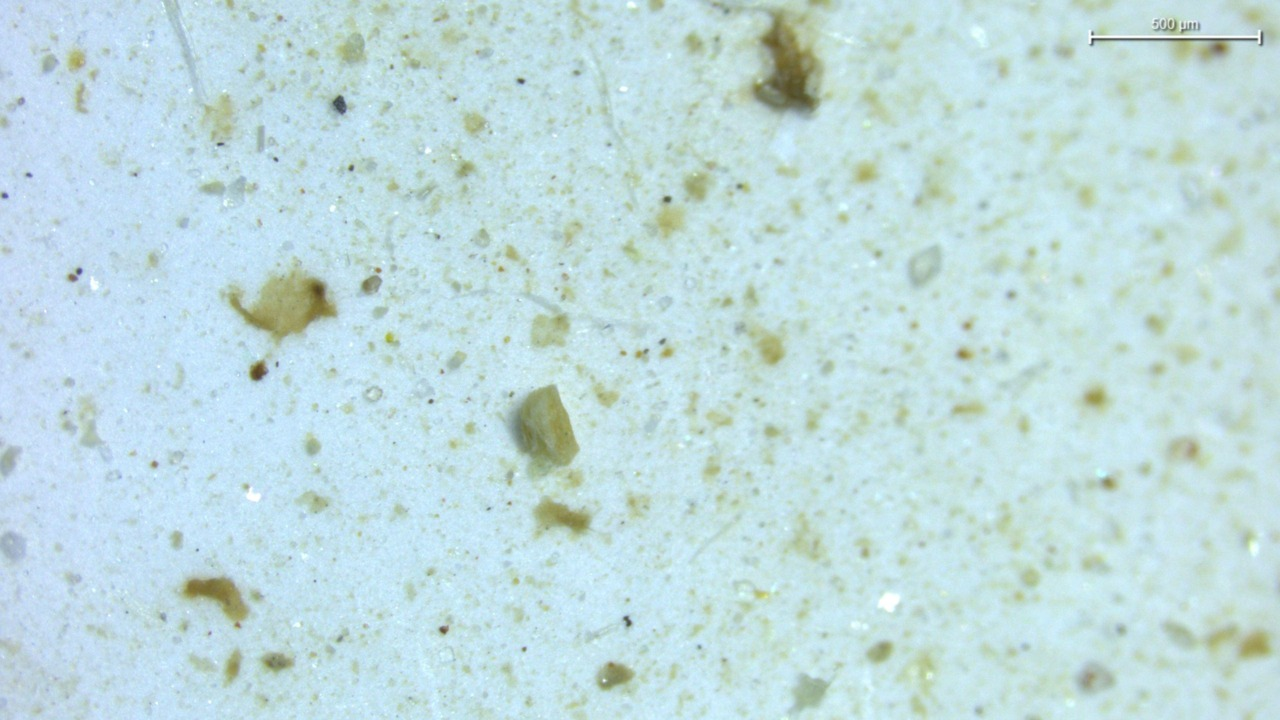microplastic_fragment: (516, 385, 579, 466), (222, 176, 248, 206)
